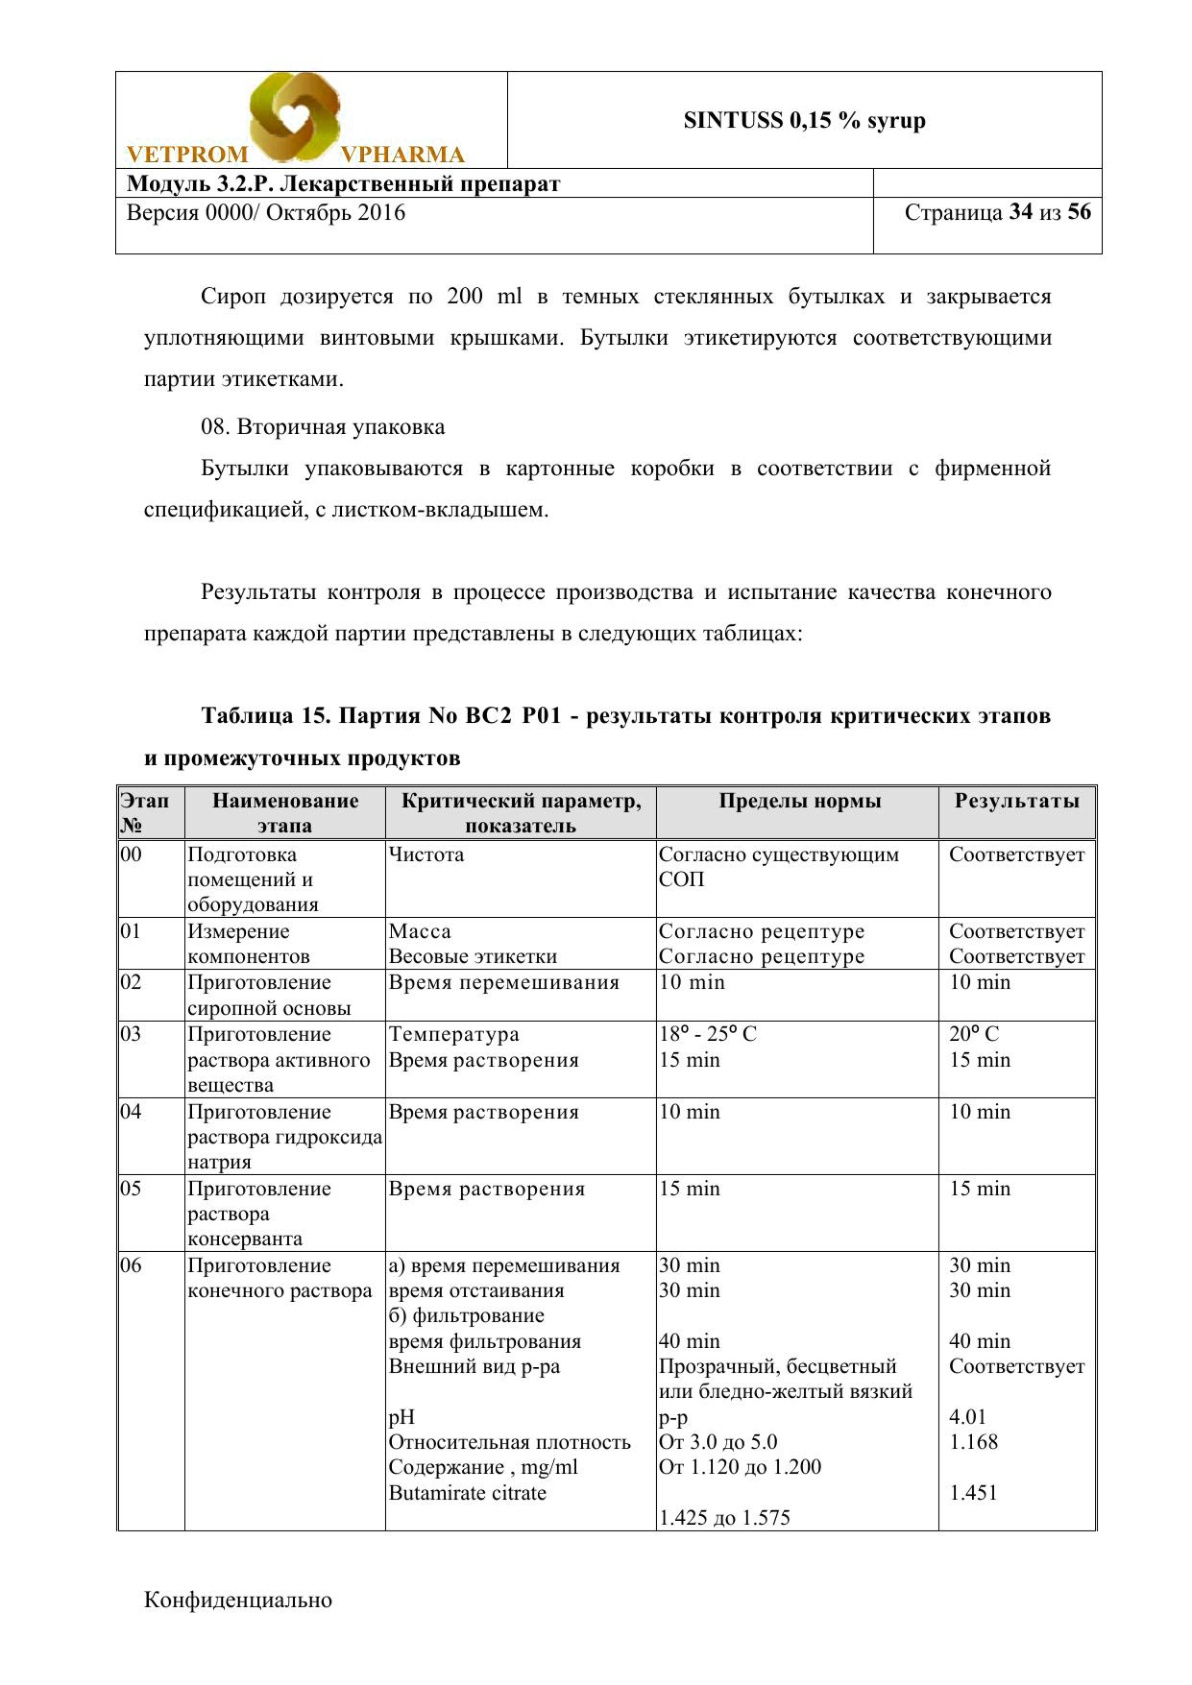full_lined: (115, 783, 1099, 1533)
merged_cells: (114, 70, 1103, 255)
